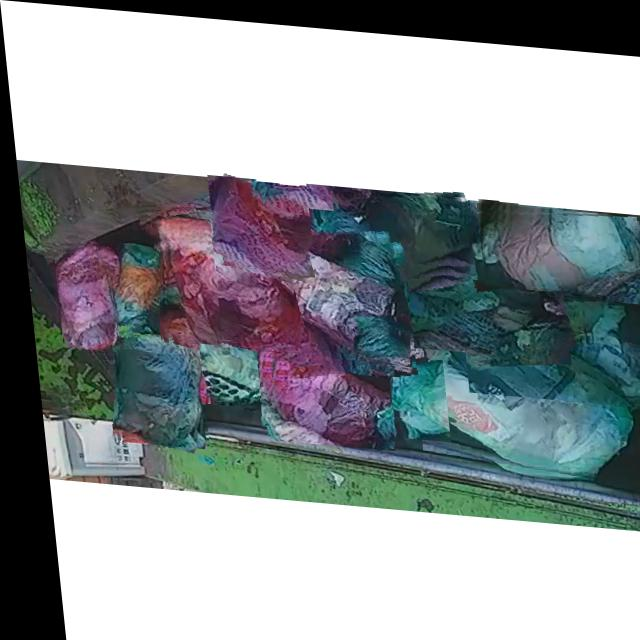general_trashbag: (410, 301, 625, 465), (455, 288, 640, 395), (401, 233, 545, 345), (476, 200, 636, 282), (304, 185, 466, 256), (108, 326, 194, 441), (366, 336, 437, 432), (186, 329, 266, 399), (105, 245, 158, 346)
other_trashbag: (246, 238, 405, 357), (188, 212, 288, 339), (261, 340, 382, 441), (208, 173, 303, 269), (158, 213, 213, 342), (49, 241, 111, 348), (138, 201, 191, 239), (348, 317, 402, 348), (259, 183, 328, 204)
